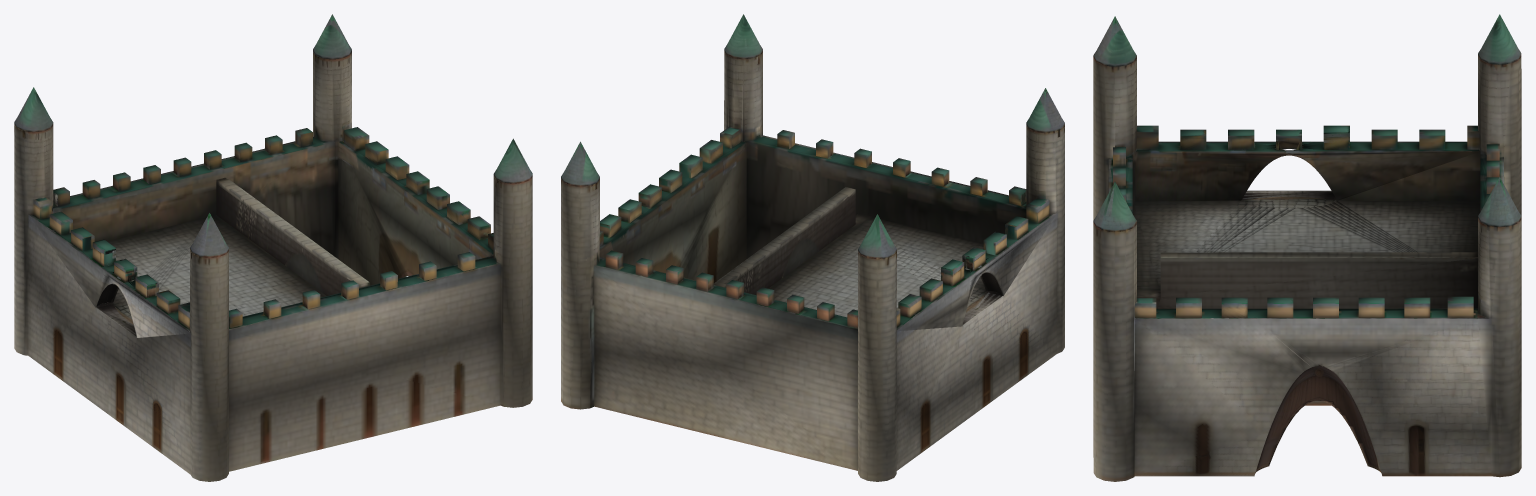
The model's file is home_006.obj.
3 views of the same model, side by side, from view 1: azimuth 30°, elevation 25°; view 2: azimuth 150°, elevation 25°; view 3: azimuth 270°, elevation 25° (orthographic). The views are drawn at different scales.
Visible parts, largest first — view 1: model; view 2: model; view 3: model.
Part boxes in pixels (x1,y1,x2,y2): model: [14, 14, 532, 481]; model: [561, 14, 1064, 481]; model: [1093, 14, 1521, 481].
Size of the model in its own units: 2 by 1.47 by 1.95.
